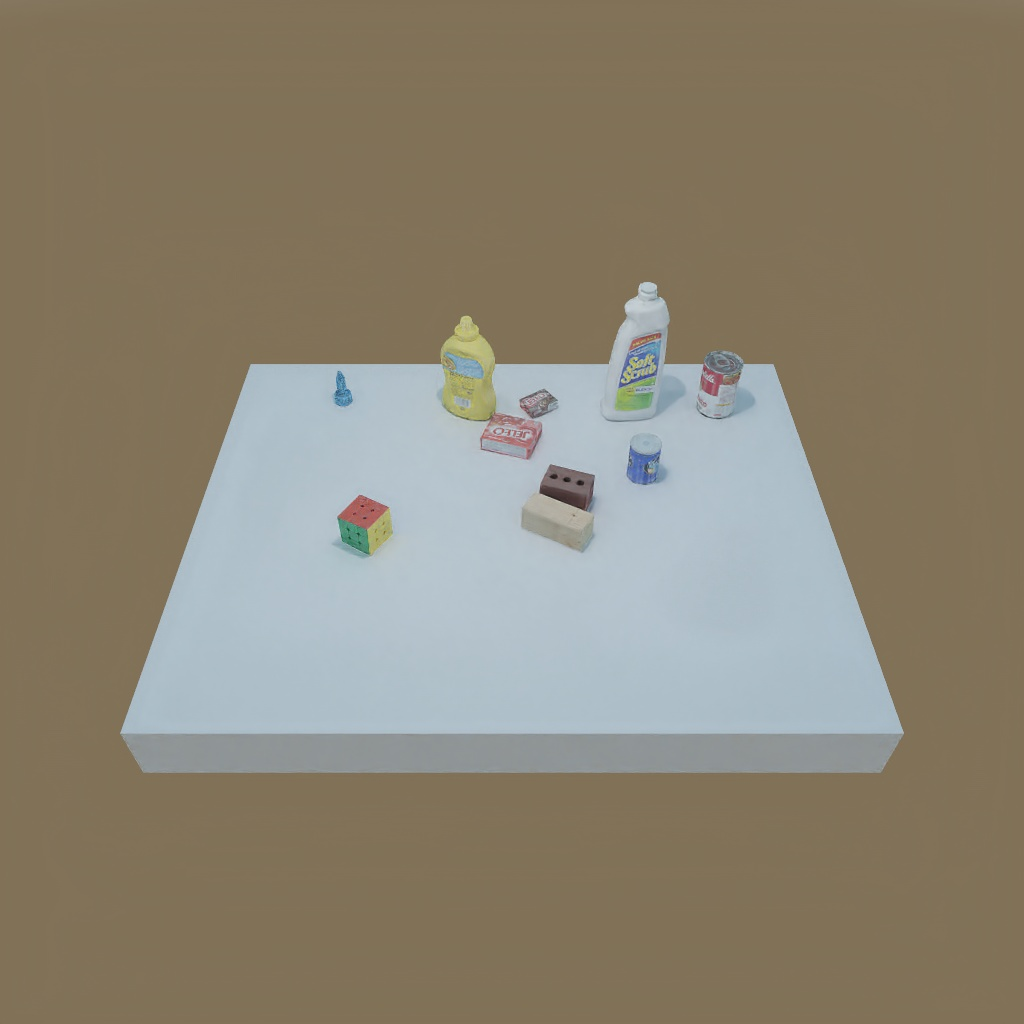gelatin_box: (481, 415, 543, 459)
master_chef_can: (620, 431, 667, 490)
mustard_bottle: (435, 314, 496, 421)
pudding_box: (517, 388, 561, 416)
rubiks_cube: (332, 496, 396, 553)
tomato_soup_can: (693, 348, 743, 419)
wood_block: (519, 494, 593, 559)
